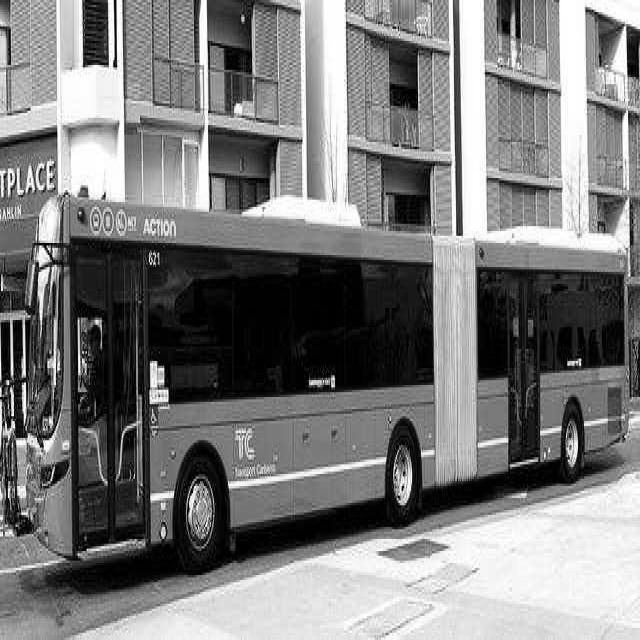Bus: (29, 185, 636, 550)
